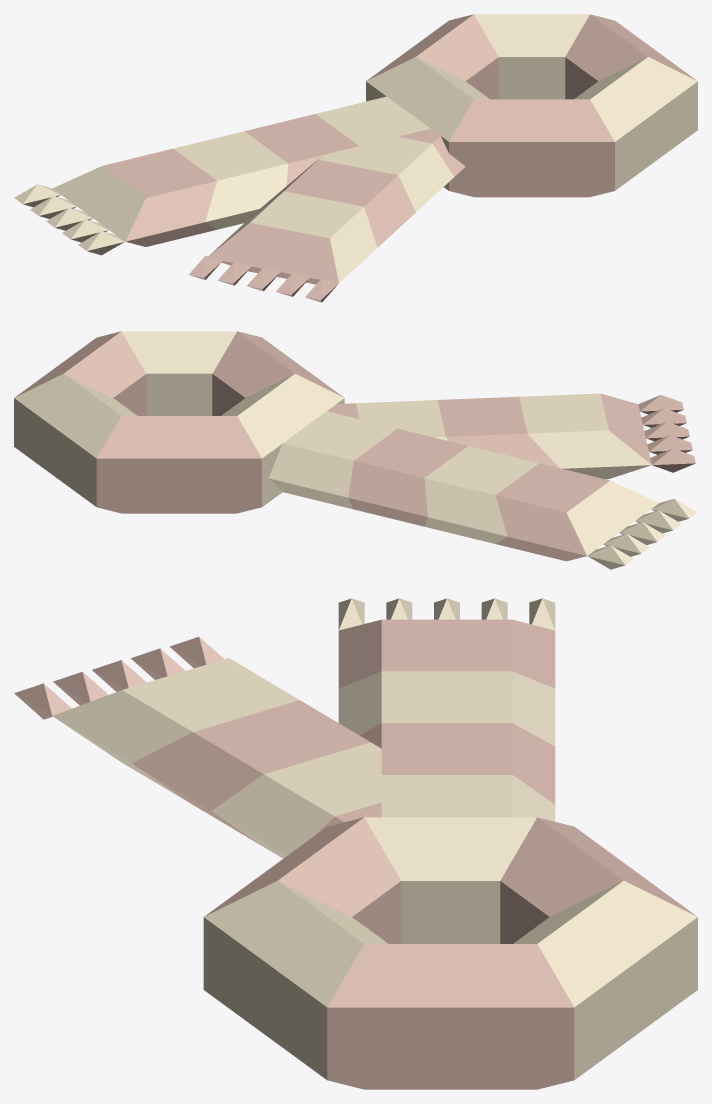
File: Scarf.fbx
3 views of the same model, one above another, from view 1: azimuth 30°, elevation 25°; view 2: azimuth 150°, elevation 25°; view 3: azimuth 270°, elevation 25° (orthographic). The views are drawn at different scales.
Parts seen in each view (by area): view 1: Scarf; view 2: Scarf; view 3: Scarf.
Part boxes in pixels (x1=…): Scarf: x1=14, y1=14, x2=697, y2=302; Scarf: x1=14, y1=331, x2=697, y2=569; Scarf: x1=14, y1=598, x2=697, y2=1089.
Size of the model in its own units: 0.2598 by 0.04 by 0.1702.
